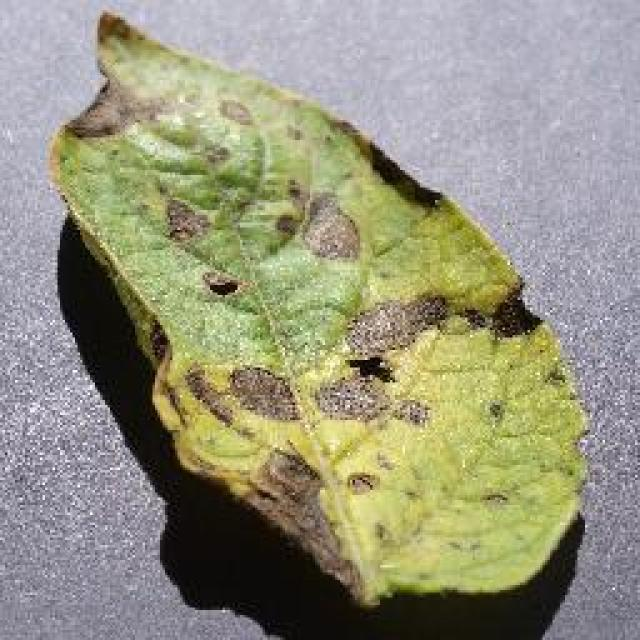Potato: (48, 8, 590, 610)
